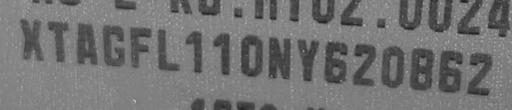letter: (464, 47, 492, 99), (436, 45, 464, 96), (378, 42, 408, 89), (265, 31, 293, 81), (237, 31, 265, 79), (322, 39, 350, 87), (407, 43, 435, 90), (294, 36, 320, 85), (155, 25, 181, 72), (350, 41, 376, 88), (73, 20, 99, 66), (128, 24, 154, 70), (18, 18, 44, 63), (44, 19, 70, 64), (102, 21, 126, 68), (183, 28, 205, 74), (210, 30, 232, 76)
